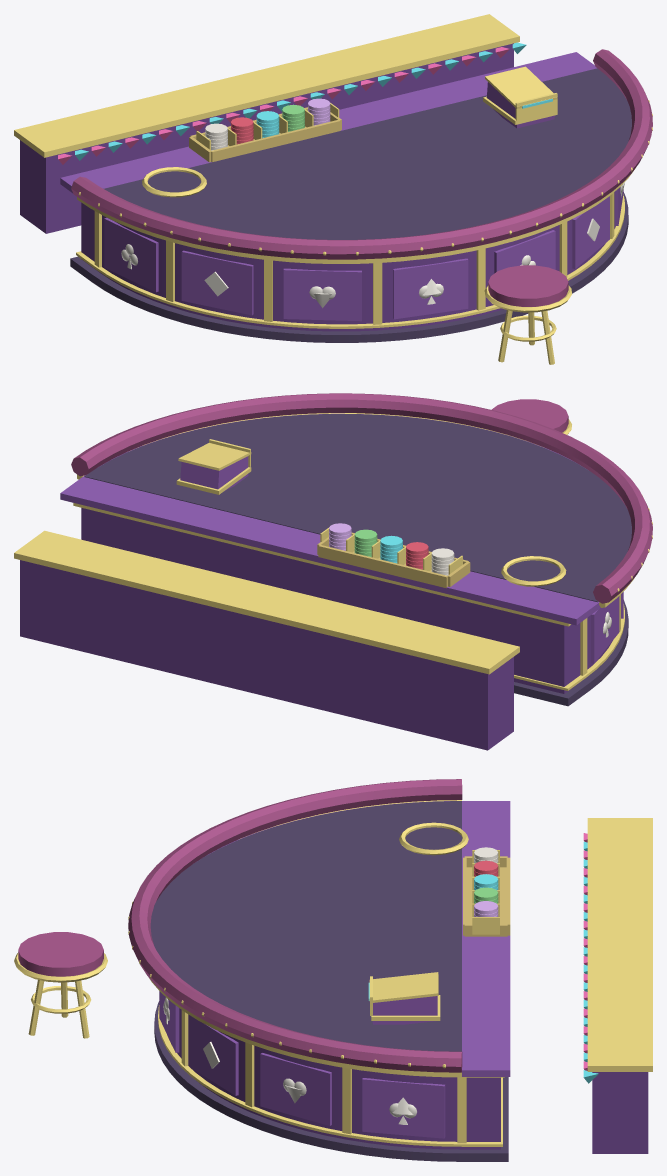
File: blackjack.glb
3 renders of one model, top to bottom at view 1: azimuth 30°, elevation 25°; view 2: azimuth 150°, elevation 25°; view 3: azimuth 270°, elevation 25°, orthographic. The views are drawn at different scales.
Parts seen in each view (by area): view 1: feltBed, backCap, apronPanels, railLeather, backCounter, cabinet, topSlab, plinth, apronPilasters, girdle, stoolSeat, railGold (+14 smaller); view 2: feltBed, backCounter, cabinet, backCap, railLeather, topSlab, girdle, rackTray, shoeGold, plinth, stoolSeat, shoeBody (+9 smaller); view 3: feltBed, backCap, railLeather, apronPanels, topSlab, cabinet, plinth, backCounter, stoolSeat, girdle, apronPilasters, shoeGold (+10 smaller).
Part boxes in pixels (x1,y1,x2,y2): feltBed: [103, 68, 631, 239]; backCap: [14, 14, 519, 157]; apronPanels: [104, 187, 623, 321]; railLeather: [71, 49, 652, 259]; backCounter: [20, 43, 513, 233]; cabinet: [81, 192, 615, 331]; topSlab: [60, 52, 596, 193]; plinth: [70, 192, 628, 342]; apronPilasters: [94, 192, 614, 324]; girdle: [76, 194, 624, 328]; stoolSeat: [488, 265, 568, 306]; railGold: [77, 100, 652, 263]; feltBed: [84, 414, 631, 602]; backCounter: [20, 560, 513, 750]; cabinet: [81, 508, 612, 693]; backCap: [14, 530, 519, 674]; railLeather: [71, 393, 652, 603]; topSlab: [60, 413, 600, 625]; girdle: [73, 503, 624, 690]; rackTray: [317, 532, 470, 588]; shoeGold: [176, 439, 251, 494]; plinth: [514, 600, 628, 706]; stoolSeat: [491, 399, 568, 432]; shoeBody: [180, 456, 248, 490]; feltBed: [150, 801, 461, 1051]; backCap: [587, 818, 652, 1071]; railLeather: [128, 779, 462, 1072]; apronPanels: [159, 991, 445, 1138]; topSlab: [208, 801, 510, 1076]; cabinet: [168, 1008, 500, 1149]; plinth: [154, 1001, 508, 1161]; backCounter: [592, 1072, 648, 1153]; stoolSeat: [18, 932, 103, 976]; girdle: [158, 1005, 504, 1146]; apronPilasters: [181, 1010, 466, 1143]; shoeGold: [369, 972, 440, 1020].
Bounding box in the file's own units: 7.17 × 1.53 × 6.85.
